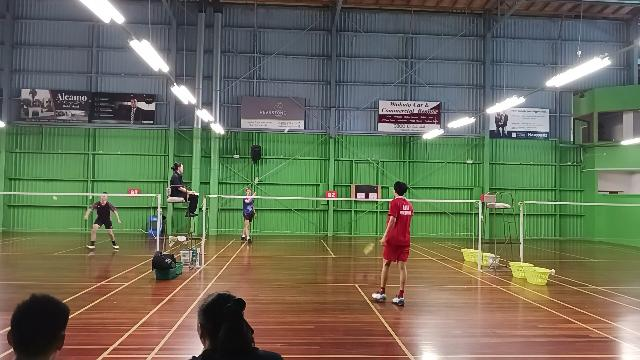Shuttlecock: (281, 126, 291, 134)
